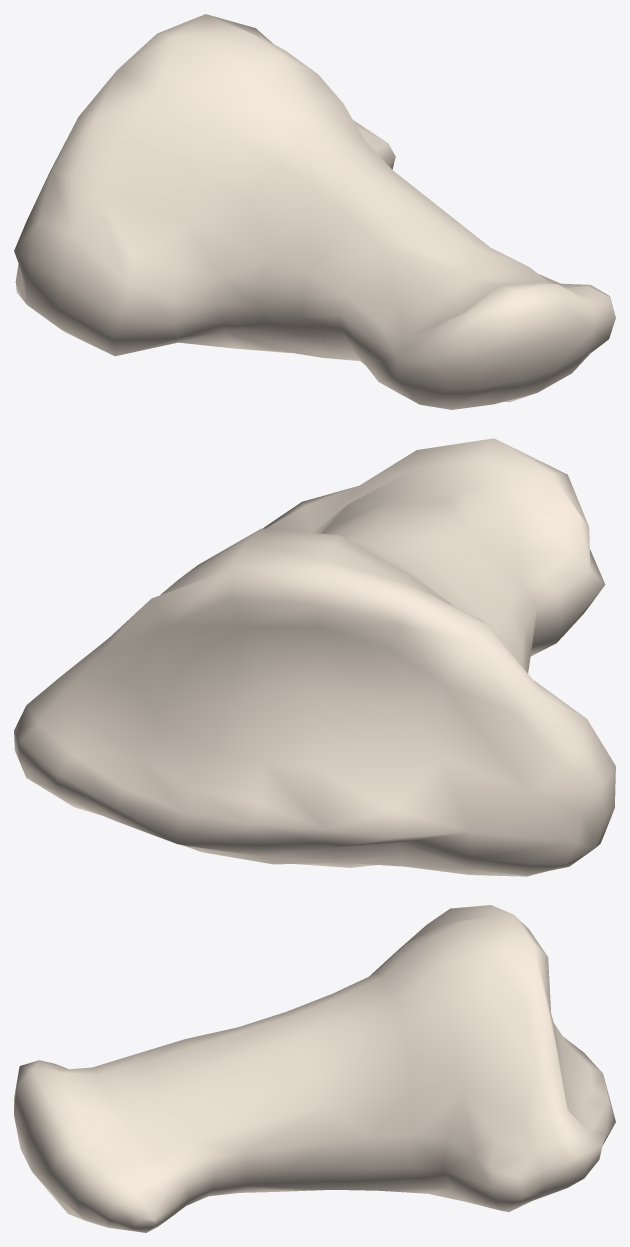
The model's file is left_toe_1_distal.glb.
The picture shows the model from 3 angles, top to bottom: view 1: azimuth 30°, elevation 25°; view 2: azimuth 150°, elevation 25°; view 3: azimuth 270°, elevation 25°; orthographic projection. The views are drawn at different scales.
Visible parts, largest first — view 1: Distal phalanx of first finger of foot.r; view 2: Distal phalanx of first finger of foot.r; view 3: Distal phalanx of first finger of foot.r.
Boxes of the visible parts, x1,y1,x2,y2 form: Distal phalanx of first finger of foot.r: (14,14,615,409); Distal phalanx of first finger of foot.r: (14,438,615,876); Distal phalanx of first finger of foot.r: (14,905,615,1232).
Bounding box in the file's own units: 0.0217 × 0.0119 × 0.0271.
